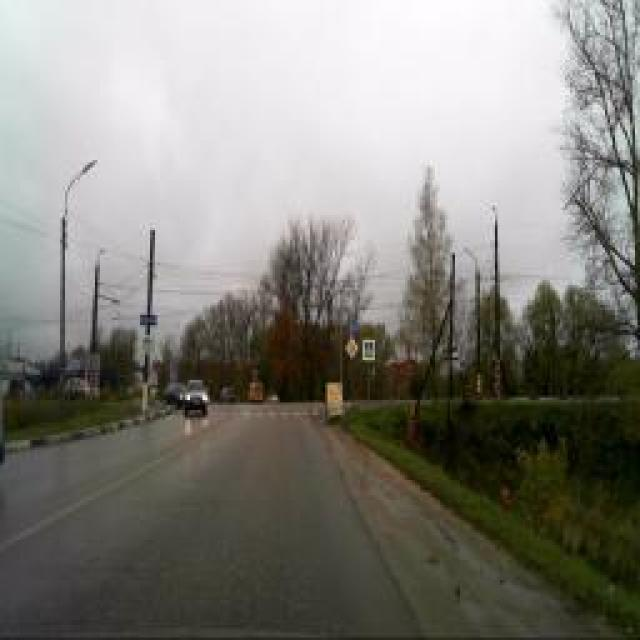sign: (346, 319, 356, 336)
